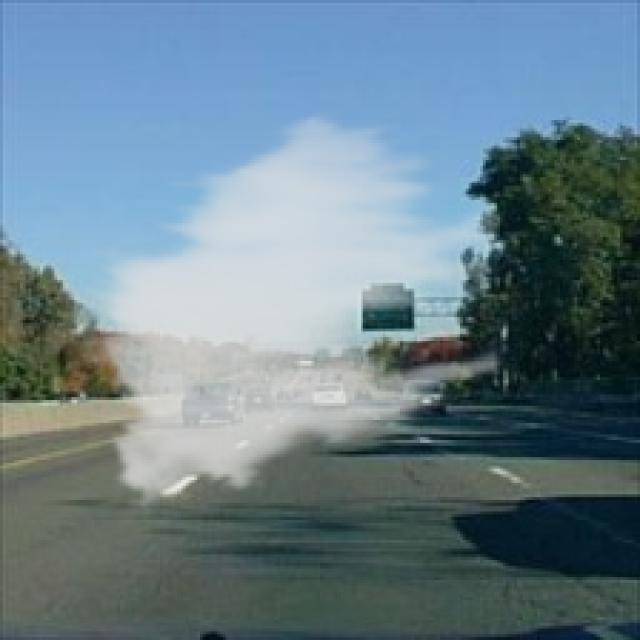Smoke: (80, 103, 500, 520)
